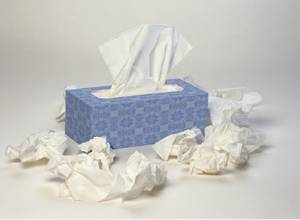Tissue: (96, 22, 193, 95), (4, 125, 66, 171), (117, 151, 170, 201), (205, 85, 264, 128), (188, 142, 251, 174)
